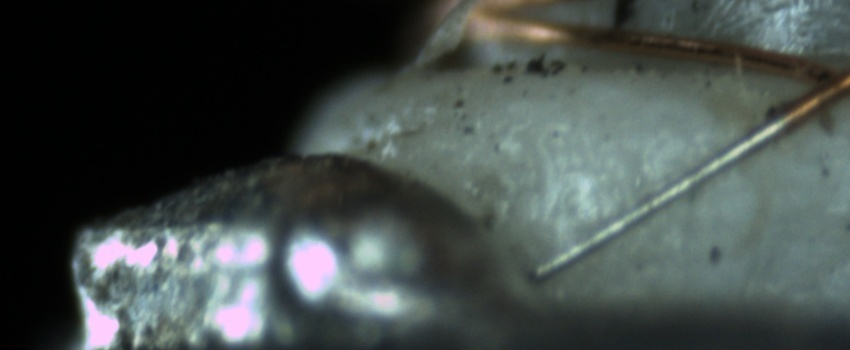TS: (531, 114, 790, 281)
